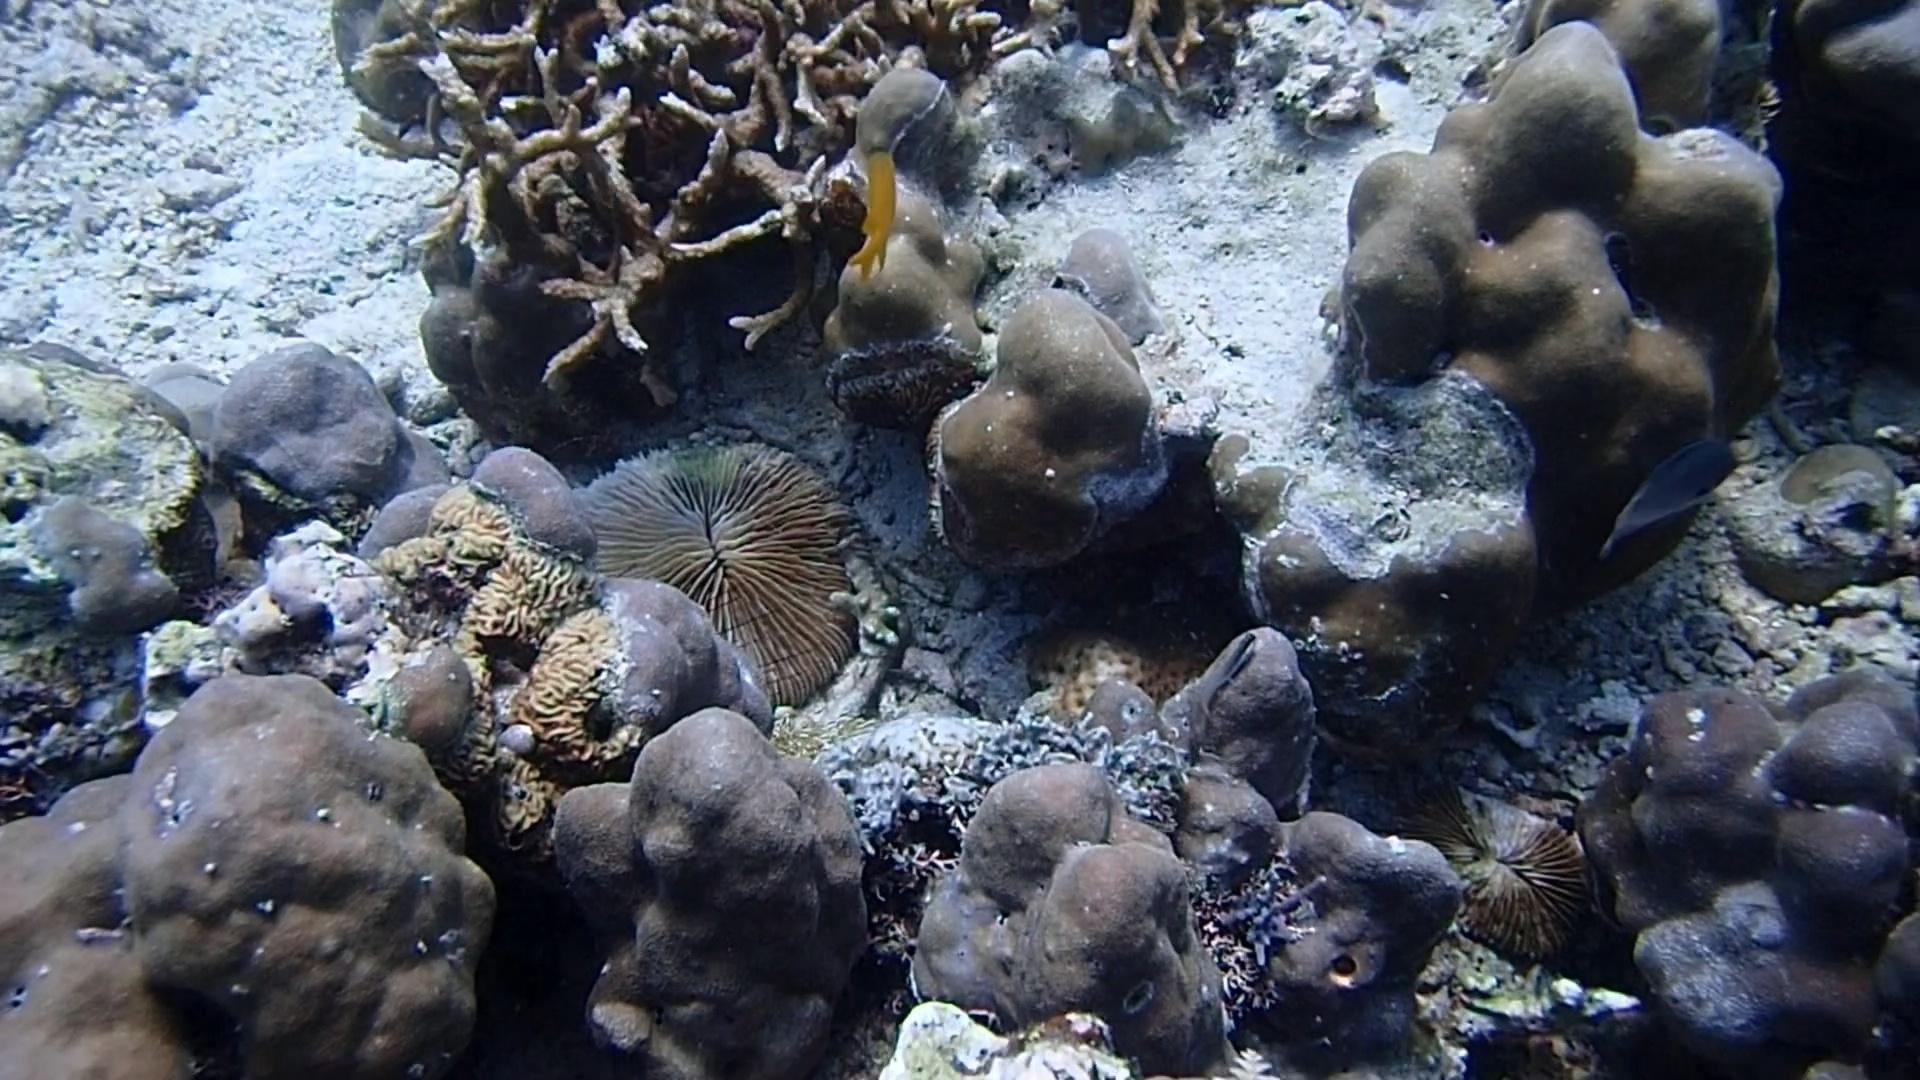Blue Fish Two: (1585, 427, 1753, 568)
Yellow Fish: (837, 137, 909, 291)
